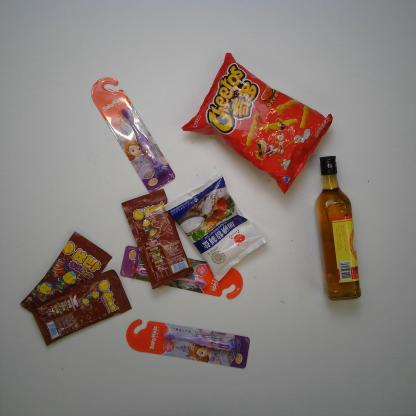Candy: (29, 268, 134, 348), (17, 230, 113, 314), (120, 188, 194, 290)
Personal Hygiene: (91, 75, 177, 196), (118, 243, 245, 302), (125, 318, 251, 371)
Puffed Food: (179, 48, 335, 197)
Seasoner: (163, 171, 271, 284), (313, 152, 362, 305)
